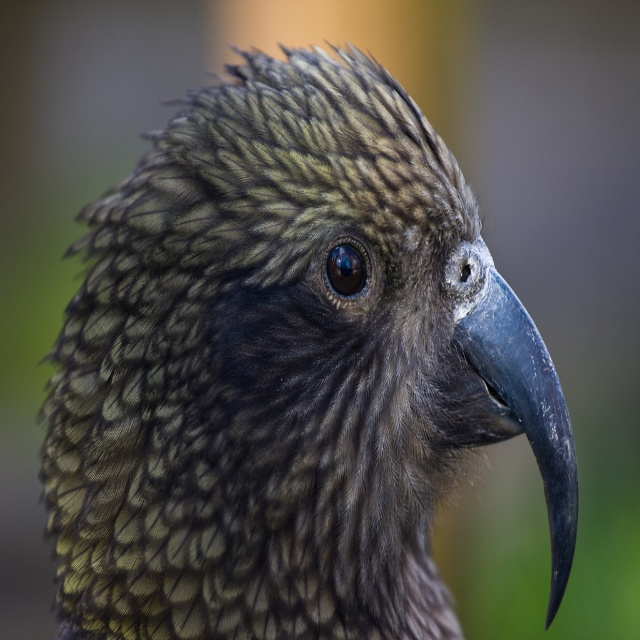Parrot: (32, 25, 583, 639)
